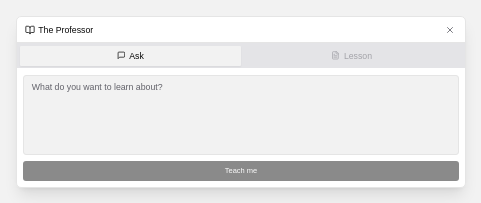
Professor › disables the Teach me button when input is empty
This screenshot has width=481, height=203.
Expected: the button "Teach me" is disabled, [23,161,459,181]
Type "javascript promises" into the text box with placeholder "What do you want to learn about?" at x=241, y=114, box [23,74,459,154]
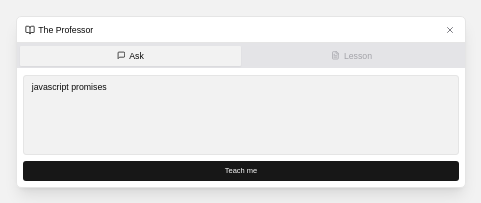
Now the button "Teach me" is enabled, box [23,161,459,181]
